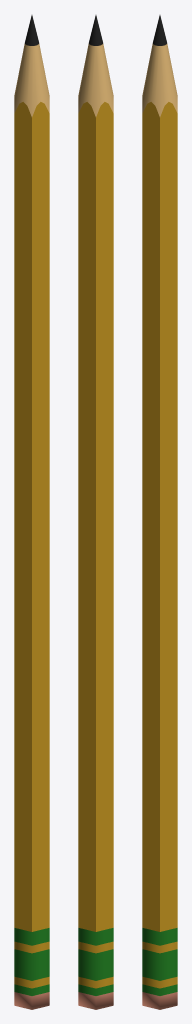
The model's file is Pencil.dae.
3 views of the same model, side by side, from view 1: azimuth 90°, elevation 25°; view 2: azimuth 150°, elevation 25°; view 3: azimuth 330°, elevation 25° (orthographic).
Visible parts, largest first — view 1: group_1 (×3), group_0 (×6); view 2: group_1 (×3), group_0 (×6); view 3: group_1 (×3), group_0 (×6).
Part boxes in pixels (box(x1,y1,x2,y2)): group_1 (×3): box(14, 15, 49, 931); group_0 (×6): box(14, 928, 49, 1009); group_1 (×3): box(78, 15, 113, 931); group_0 (×6): box(78, 928, 113, 1009); group_1 (×3): box(142, 15, 177, 931); group_0 (×6): box(142, 928, 177, 1009).
Bounding box in the file's own units: 0.3142 × 0.2721 × 8.46.
